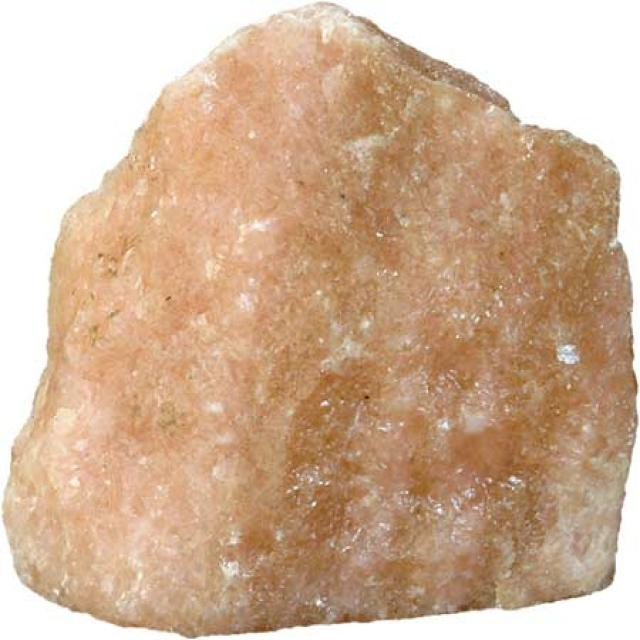Metamorphic: (10, 10, 634, 636)
